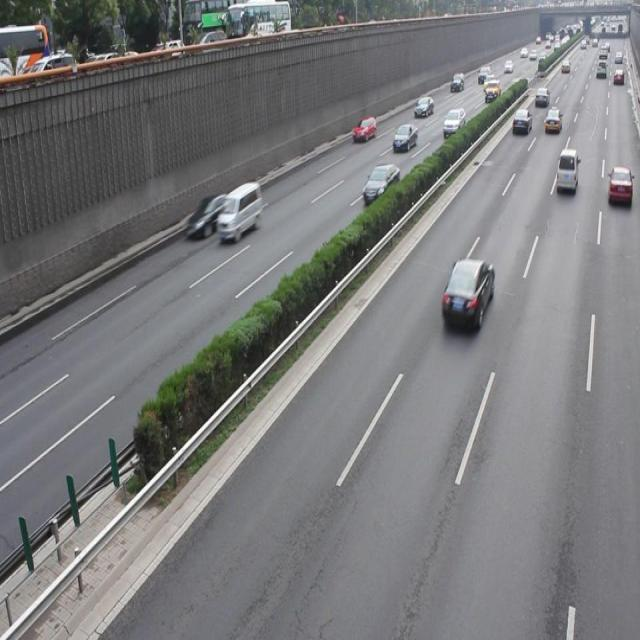car: (440, 255, 493, 328), (185, 192, 228, 238), (361, 164, 399, 202), (606, 165, 631, 206)
truck: (216, 181, 261, 240), (554, 148, 578, 191)
